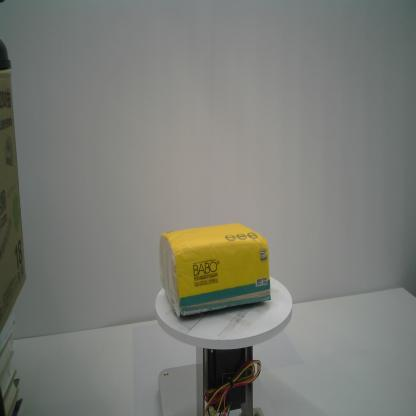Tissue: (158, 221, 272, 320)
